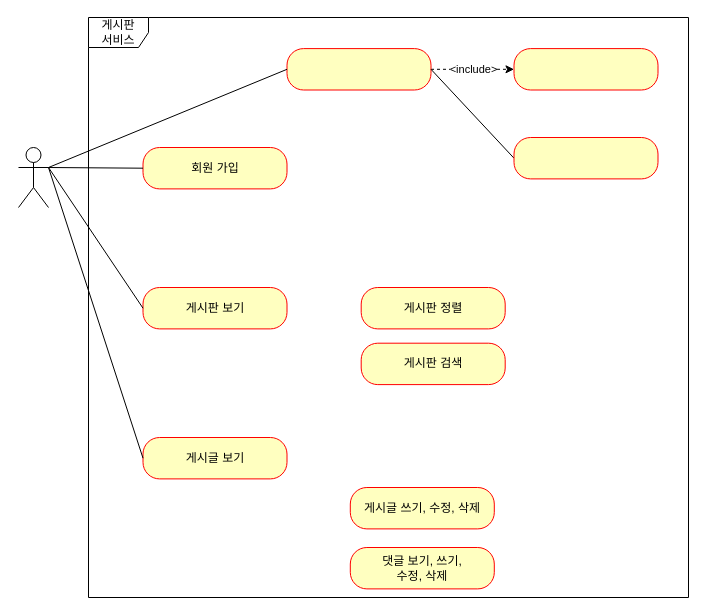
Some shapes in this 706 by 615 pixel diagram are drawn without their labels. Each missing label, with the box of its shape:
로그인 실패: (513, 136, 658, 179)
이용자: (18, 146, 48, 208)
인증: (513, 48, 658, 90)
회원 로그인: (286, 48, 431, 90)
